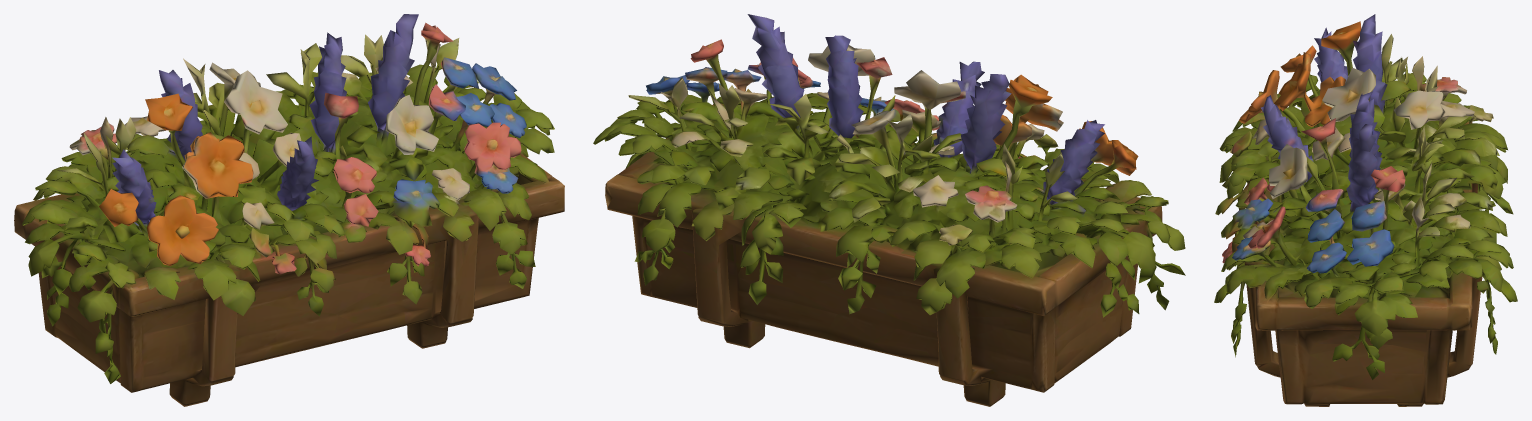
The model's file is trim_flowerbox.glb.
3 views of the same model, side by side, from view 1: azimuth 30°, elevation 25°; view 2: azimuth 150°, elevation 25°; view 3: azimuth 270°, elevation 25° (orthographic). The views are drawn at different scales.
Visible parts, largest first — view 1: tripo_node_e6c51949-e07f-471d-9632-223081708ba2; view 2: tripo_node_e6c51949-e07f-471d-9632-223081708ba2; view 3: tripo_node_e6c51949-e07f-471d-9632-223081708ba2.
Part boxes in pixels (x1=…): tripo_node_e6c51949-e07f-471d-9632-223081708ba2: x1=14, y1=14, x2=564, y2=406; tripo_node_e6c51949-e07f-471d-9632-223081708ba2: x1=593, y1=14, x2=1185, y2=406; tripo_node_e6c51949-e07f-471d-9632-223081708ba2: x1=1214, y1=14, x2=1517, y2=406.
Size of the model in its own units: 0.9812 by 0.5416 by 0.5301.
Materials: 1 (1 with a texture image).
